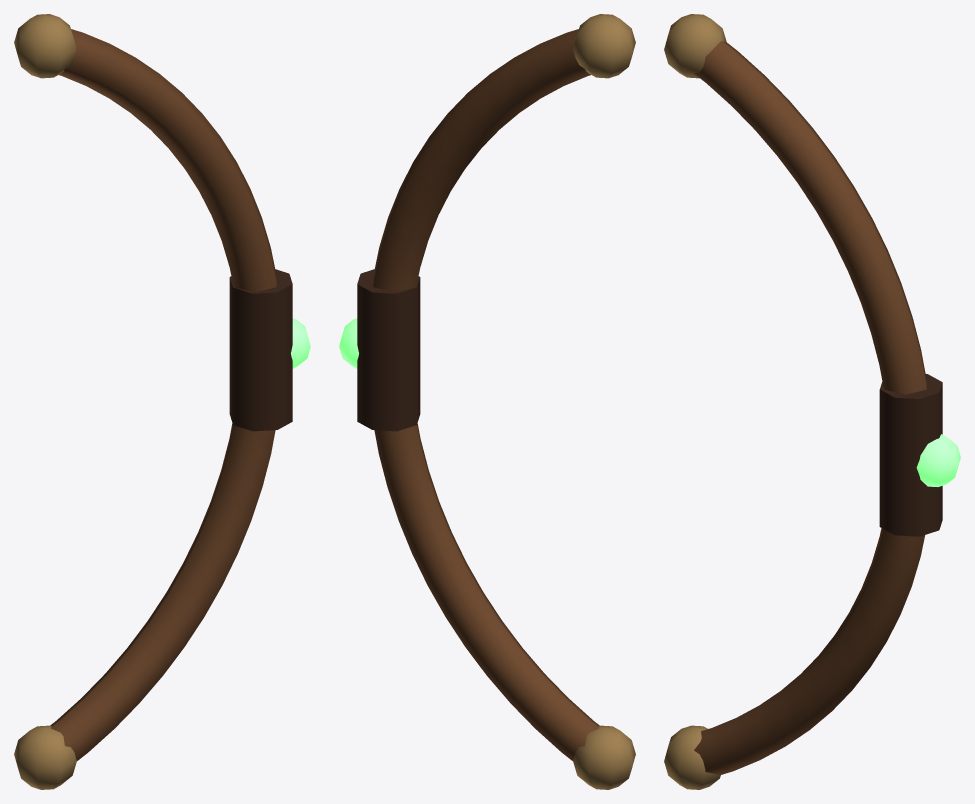
The model's file is bow_f0_5fbabcc.glb.
3 renders of one model, left to right at view 1: azimuth 30°, elevation 25°; view 2: azimuth 150°, elevation 25°; view 3: azimuth 330°, elevation 25°, orthographic.
Visible parts, largest first — view 1: m0_ow80_, m1_ow80_, m3_ow80_, m2_; view 2: m0_ow80_, m1_ow80_, m3_ow80_, m2_; view 3: m0_ow80_, m1_ow80_, m3_ow80_, m2_.
Boxes of the visible parts, x1,y1,x2,y2 form: m0_ow80_: (50, 29, 276, 760); m1_ow80_: (229, 269, 292, 431); m3_ow80_: (14, 14, 76, 789); m2_: (291, 318, 310, 368); m0_ow80_: (373, 29, 599, 760); m1_ow80_: (357, 269, 420, 431); m3_ow80_: (573, 14, 635, 789); m2_: (339, 318, 358, 368); m0_ow80_: (694, 41, 926, 774); m1_ow80_: (879, 374, 942, 536); m3_ow80_: (664, 14, 726, 789); m2_: (916, 434, 960, 486).
Bounding box in the file's own units: 0.6194 × 1.57 × 0.12.
